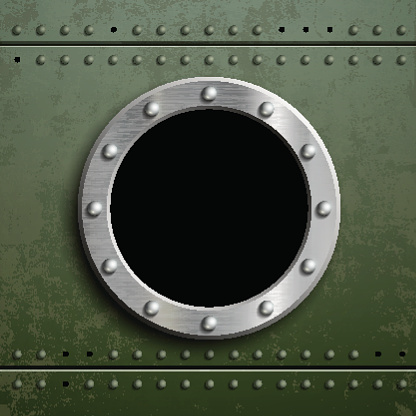hole: (14, 55, 23, 65), (85, 350, 95, 359), (62, 379, 71, 388), (373, 350, 382, 359), (111, 26, 119, 36), (397, 351, 407, 359), (325, 27, 334, 35), (277, 26, 286, 34), (302, 26, 310, 34), (63, 350, 71, 358)
rivet: (199, 85, 219, 103), (258, 102, 276, 119), (200, 315, 218, 332), (143, 300, 161, 317), (87, 200, 104, 218), (102, 257, 118, 276), (144, 100, 160, 119), (300, 258, 317, 275), (300, 143, 316, 161), (316, 199, 332, 217), (103, 142, 119, 160), (259, 300, 275, 317), (347, 376, 359, 391), (300, 348, 313, 361), (276, 377, 289, 390), (276, 348, 288, 362), (179, 377, 191, 391), (396, 378, 409, 390), (347, 349, 360, 361), (300, 378, 312, 391), (324, 378, 336, 391), (323, 349, 336, 361), (252, 378, 265, 390), (251, 349, 264, 361), (203, 377, 215, 390), (394, 54, 407, 66), (371, 25, 384, 37), (347, 25, 360, 37), (59, 25, 72, 37), (228, 349, 240, 361), (204, 348, 216, 360), (156, 378, 168, 390), (12, 348, 24, 360), (396, 25, 408, 37), (371, 55, 383, 67), (348, 55, 360, 67), (276, 55, 288, 67), (251, 25, 263, 37), (228, 25, 240, 37), (132, 25, 144, 37), (84, 55, 96, 67), (84, 25, 96, 37), (60, 55, 72, 67), (229, 377, 240, 390), (179, 349, 192, 360), (372, 379, 384, 390), (157, 348, 168, 360), (133, 378, 144, 390), (108, 349, 120, 360), (251, 55, 263, 66), (228, 55, 239, 67), (180, 55, 191, 67), (179, 25, 191, 36), (156, 25, 167, 37), (156, 55, 168, 66), (108, 54, 119, 66), (36, 24, 47, 36), (109, 378, 120, 389), (85, 378, 96, 389), (37, 379, 48, 390), (204, 55, 215, 66), (205, 26, 216, 37), (132, 55, 143, 66), (12, 26, 23, 37), (324, 55, 334, 67), (37, 55, 47, 67), (133, 350, 144, 360), (37, 350, 48, 360), (301, 55, 311, 66), (13, 379, 23, 389)
